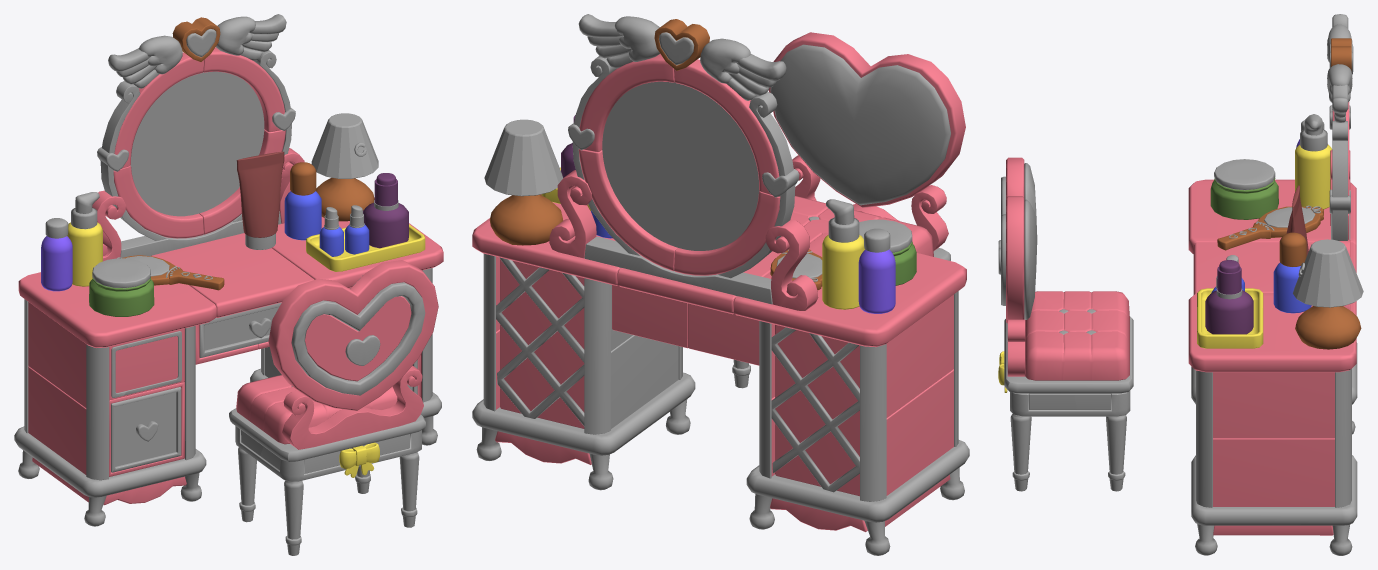
Rendered from Vanity.fbx.
The picture shows the model from 3 angles, left to right: view 1: azimuth 30°, elevation 25°; view 2: azimuth 150°, elevation 25°; view 3: azimuth 270°, elevation 25°; orthographic projection. The views are drawn at different scales.
Visible parts, largest first — view 1: S_Vanity, M_Vanity, D1_Vanity_47, D1_Vanity_48, D1_Vanity_46, D1_Vanity_45, D1_Vanity_51, D1_Vanity_49, D1_Vanity_52, D1_Vanity_50, S_Vanity_, D_Vanity_26 (+3 smaller); view 2: S_Vanity, M_Vanity, D1_Vanity_47, D1_Vanity_46, D1_Vanity_48, D1_Vanity_45, D1_Vanity_51, D1_Vanity_52, D1_Vanity_49, D1_Vanity_50, D_Vanity_26, D_Vanity_51 (+1 smaller); view 3: M_Vanity, S_Vanity, S_Vanity_, D_Vanity_26, D_Vanity_13, D_Vanity_12.
Part boxes in pixels (left/top/right/bottom): S_Vanity: left=18, top=14, right=438, bottom=526; M_Vanity: left=14, top=113, right=443, bottom=539; D1_Vanity_47: left=186, top=71, right=243, bottom=141; D1_Vanity_48: left=148, top=143, right=199, bottom=216; D1_Vanity_46: left=196, top=80, right=264, bottom=142; D1_Vanity_45: left=130, top=143, right=195, bottom=204; D1_Vanity_51: left=196, top=143, right=239, bottom=213; D1_Vanity_49: left=146, top=78, right=195, bottom=142; D1_Vanity_52: left=196, top=130, right=264, bottom=176; D1_Vanity_50: left=131, top=113, right=195, bottom=154; S_Vanity_: left=122, top=255, right=224, bottom=290; D_Vanity_26: left=71, top=192, right=99, bottom=229; S_Vanity: left=476, top=14, right=965, bottom=555; M_Vanity: left=472, top=44, right=969, bottom=522; D1_Vanity_47: left=626, top=81, right=693, bottom=164; D1_Vanity_46: left=602, top=93, right=681, bottom=165; D1_Vanity_48: left=678, top=166, right=737, bottom=250; D1_Vanity_45: left=682, top=165, right=759, bottom=237; D1_Vanity_51: left=626, top=166, right=681, bottom=247; D1_Vanity_52: left=602, top=150, right=681, bottom=210; D1_Vanity_49: left=682, top=89, right=740, bottom=165; D1_Vanity_50: left=682, top=130, right=758, bottom=179; D_Vanity_26: left=826, top=199, right=859, bottom=242; D_Vanity_51: left=659, top=32, right=693, bottom=65; M_Vanity: left=1004, top=139, right=1363, bottom=525; S_Vanity: left=998, top=14, right=1355, bottom=555; S_Vanity_: left=1217, top=206, right=1323, bottom=250; D_Vanity_26: left=1300, top=114, right=1327, bottom=151; D_Vanity_13: left=1029, top=393, right=1076, bottom=409; D_Vanity_12: left=1074, top=393, right=1111, bottom=409.
Bounding box in the file's own units: 653 × 717 × 557.
